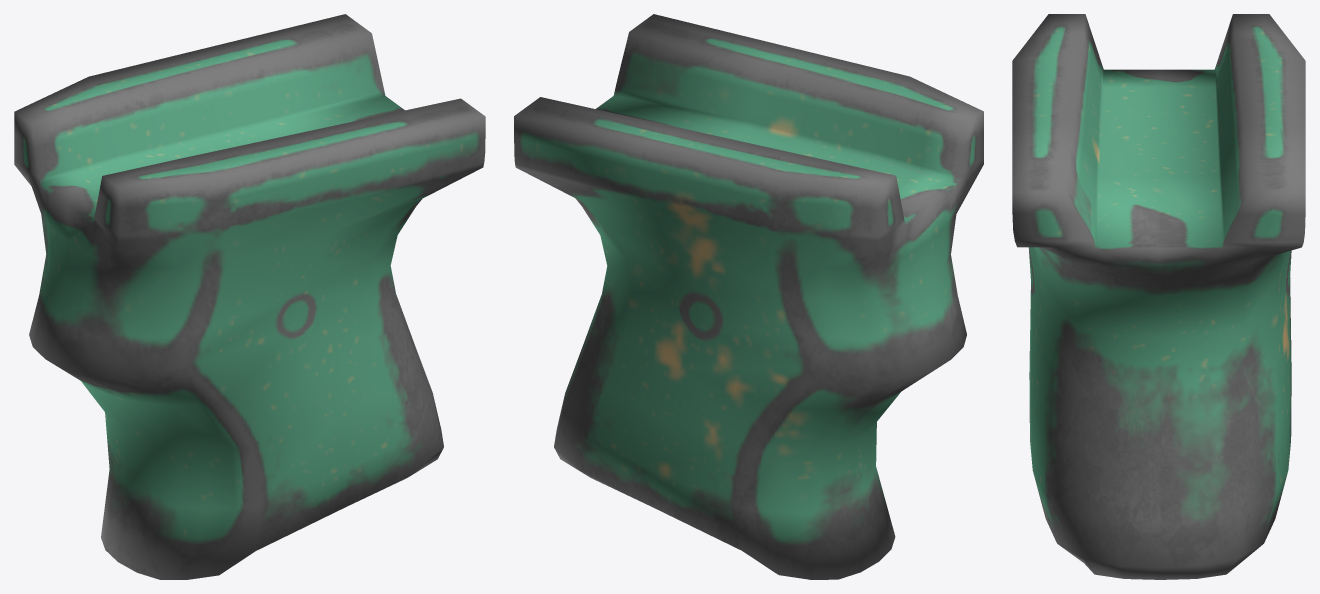
Rendered from Grip_2.fbx.
3 renders of one model, left to right at view 1: azimuth 30°, elevation 25°; view 2: azimuth 150°, elevation 25°; view 3: azimuth 270°, elevation 25°, orthographic. The views are drawn at different scales.
Visible parts, largest first — view 1: Grip_2; view 2: Grip_2; view 3: Grip_2.
Part boxes in pixels (box(x1,y1,x2,y2)): Grip_2: box(14, 14, 485, 579); Grip_2: box(514, 14, 983, 579); Grip_2: box(1012, 14, 1305, 579).
Size of the model in its own units: 0.0482 by 0.0512 by 0.0306.
